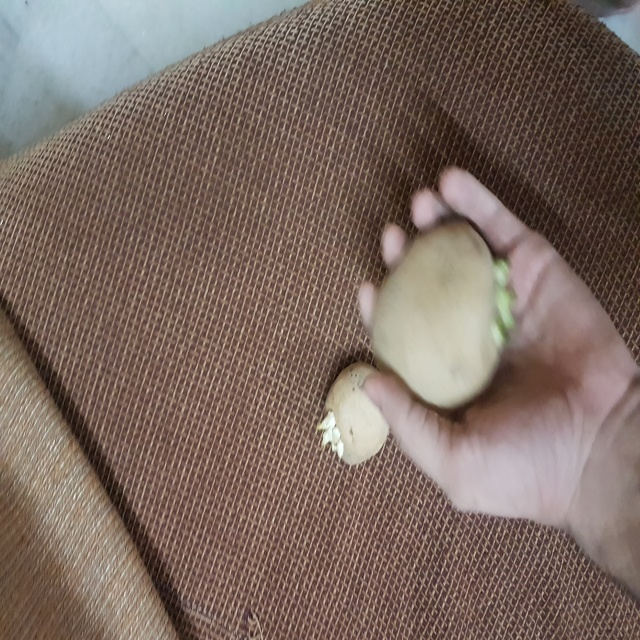potato: (357, 209, 526, 422), (323, 361, 398, 469)
